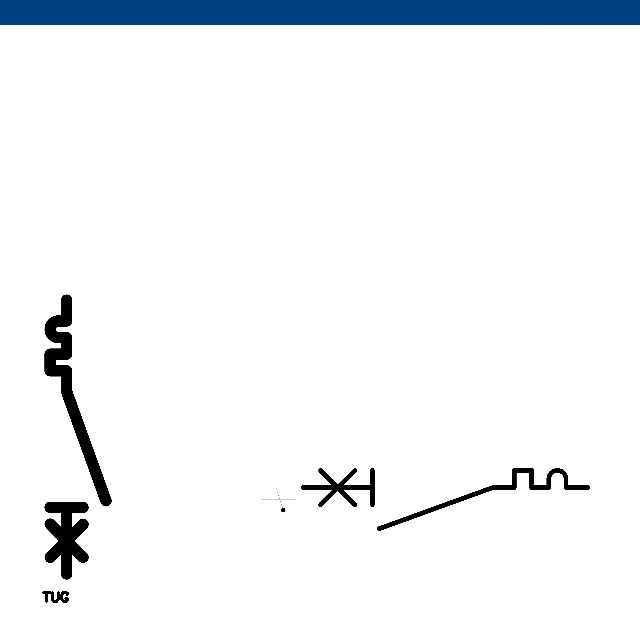interruptor_termomagnetico: (295, 463, 594, 536), (43, 293, 113, 581)
